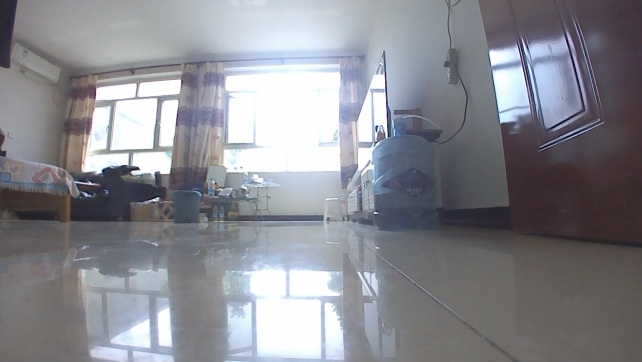TV_stand1: (344, 158, 381, 224)
bed1: (0, 155, 77, 224)
door_anno: (475, 0, 641, 248)
sofa: (70, 165, 169, 223)
wire: (434, 0, 470, 146)
